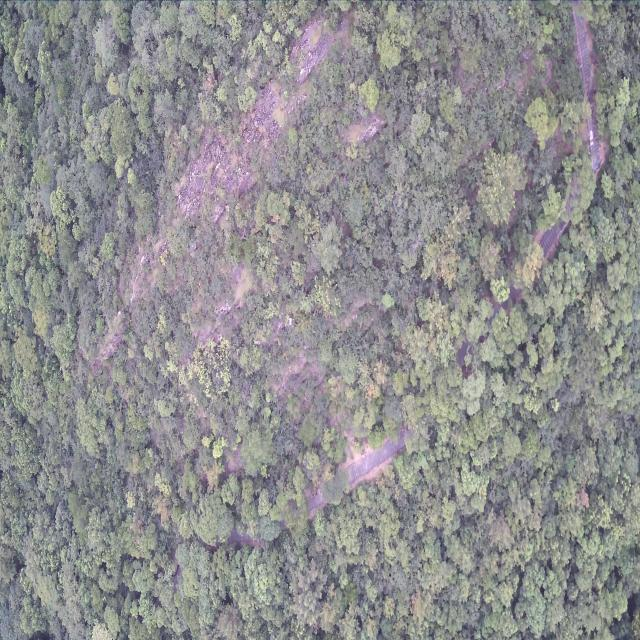drone: (287, 316, 294, 328)
